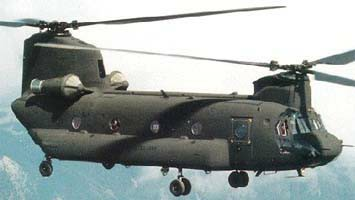chinook: (4, 7, 354, 193)
